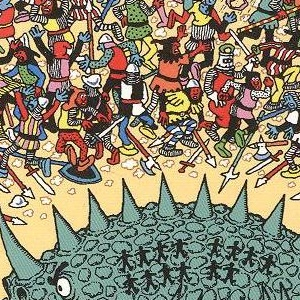Charlie: (140, 135, 160, 165)
